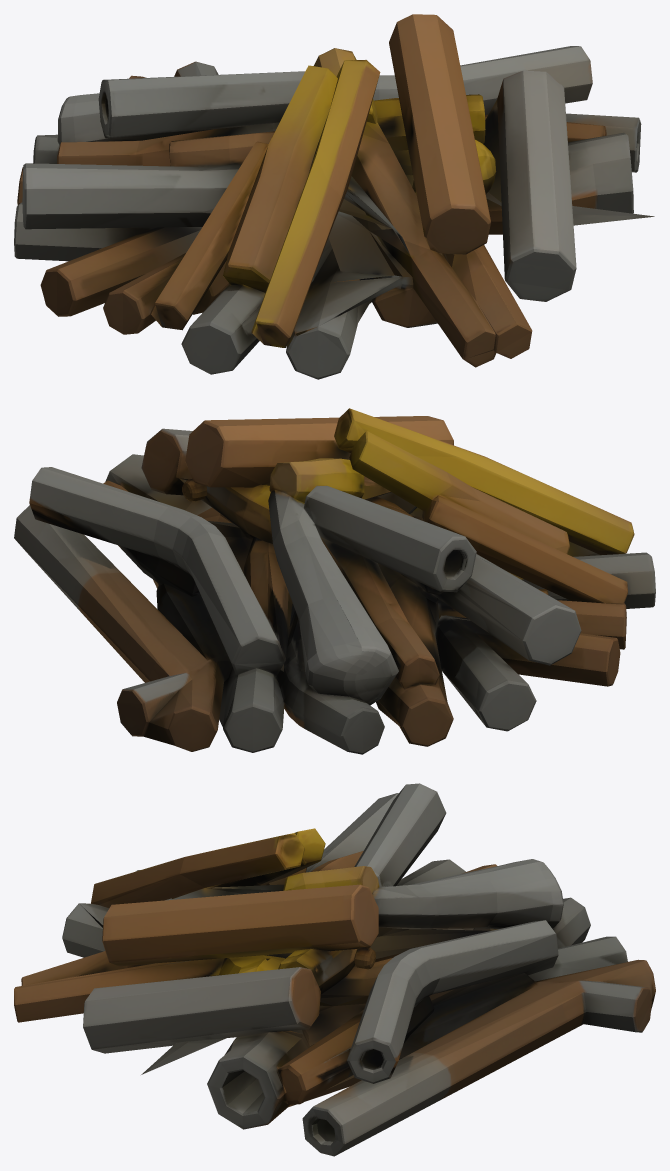
Rendered from entulho2.fbx.
The picture shows the model from 3 angles, top to bottom: view 1: azimuth 30°, elevation 25°; view 2: azimuth 150°, elevation 25°; view 3: azimuth 270°, elevation 25°; orthographic projection. The views are drawn at different scales.
Parts seen in each view (by area): view 1: mesh_input; view 2: mesh_input; view 3: mesh_input.
Part boxes in pixels (box(x1,y1,x2,y2)): mesh_input: box(14, 14, 654, 379); mesh_input: box(14, 408, 655, 754); mesh_input: box(14, 783, 655, 1156).
Size of the model in its own units: 190 by 60.94 by 189.
Materials: 1 (1 with a texture image).
